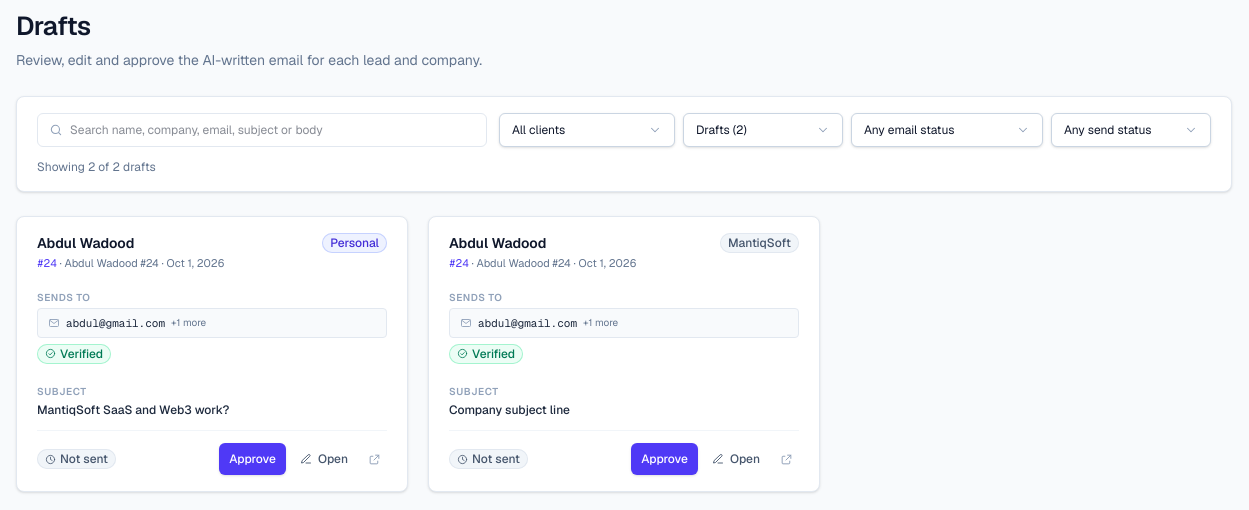
Scenario: DraftsPage › shows how many drafts each filter holds
The image size is (1249, 510).
Expected: the text "Showing 2 of 2 drafts" is shown, [37, 159, 156, 175]
Click the button named "Approval". click: (763,130)
box: [683, 113, 843, 147]
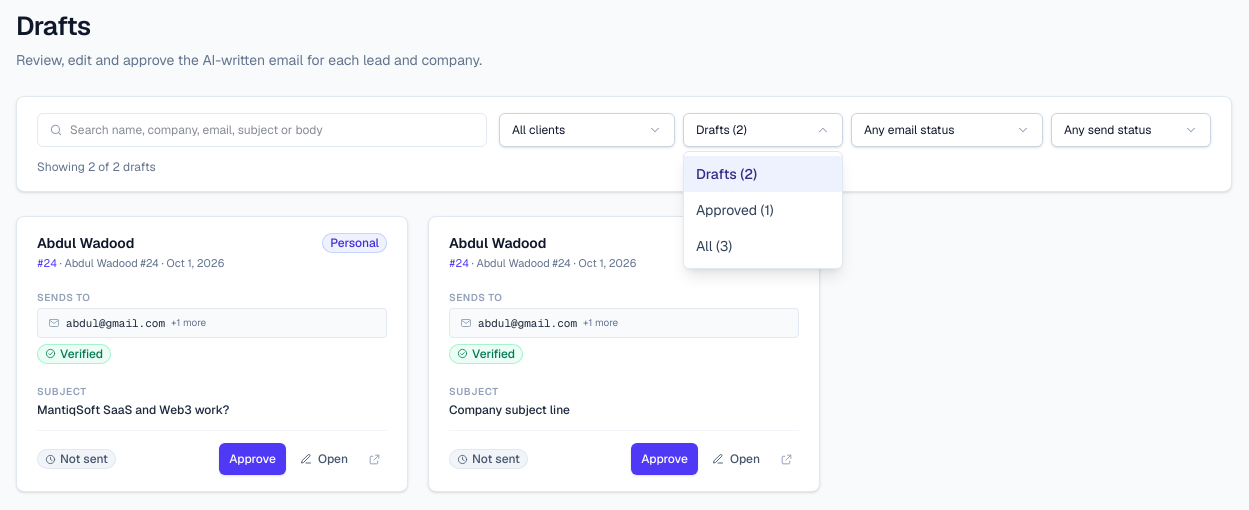
Expected: the option "Drafts (2)" is shown, [684, 156, 842, 192]
Expected: the option "Approved (1)" is shown, [696, 201, 774, 219]
